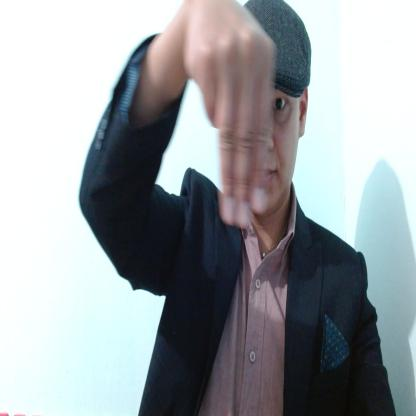M: (183, 0, 273, 230)
